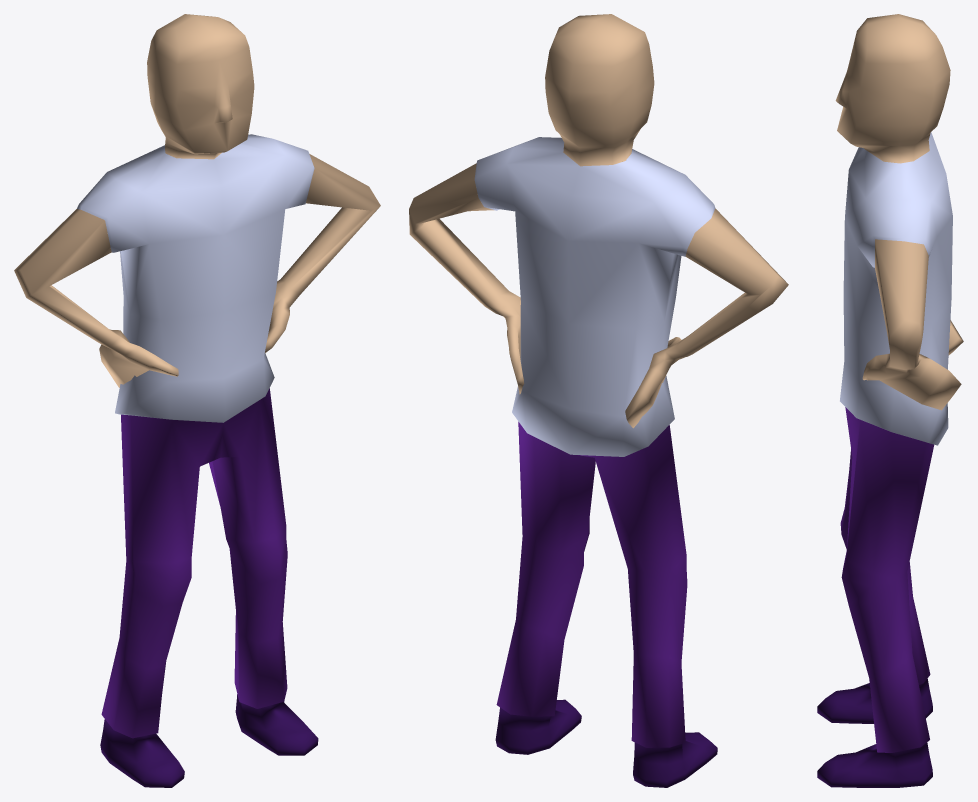
File: man.glb
3 views of the same model, side by side, from view 1: azimuth 30°, elevation 25°; view 2: azimuth 150°, elevation 25°; view 3: azimuth 270°, elevation 25° (orthographic).
Parts seen in each view (by area): view 1: shirt, pants, body, shoes; view 2: shirt, pants, body, shoes; view 3: body, pants, shirt, shoes.
Boxes of the visible parts, bbox=[...] form: shirt: bbox=[77, 134, 314, 422]; pants: bbox=[101, 388, 287, 738]; body: bbox=[14, 14, 380, 387]; shoes: bbox=[100, 694, 318, 787]; shirt: bbox=[474, 137, 715, 456]; pants: bbox=[496, 421, 687, 747]; body: bbox=[409, 14, 788, 428]; shoes: bbox=[495, 699, 717, 787]; body: bbox=[835, 14, 963, 410]; pants: bbox=[840, 407, 934, 752]; shirt: bbox=[840, 132, 952, 445]; shoes: bbox=[817, 678, 932, 787].
Size of the model in its own units: 0.755 by 1.46 by 0.2674.
